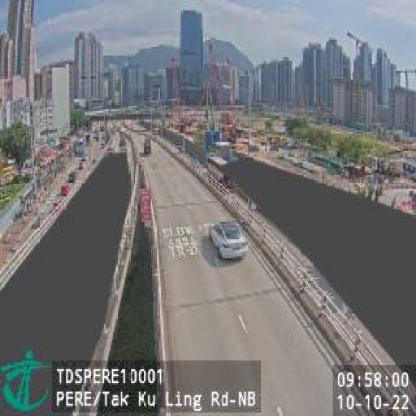Car: (210, 218, 249, 260)
